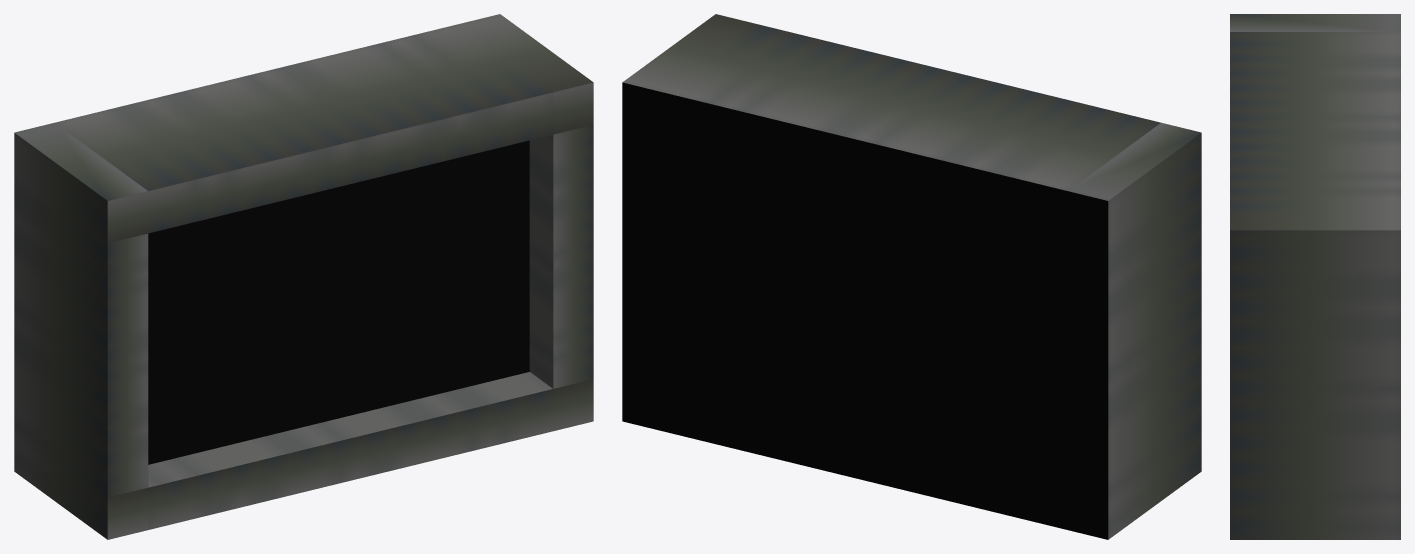
The model's file is Poly_Small_Window_00.obj.
3 renders of one model, left to right at view 1: azimuth 30°, elevation 25°; view 2: azimuth 150°, elevation 25°; view 3: azimuth 270°, elevation 25°, orthographic. The views are drawn at different scales.
Visible parts, largest first — view 1: Cube_Cube.001; view 2: Cube_Cube.001; view 3: Cube_Cube.001.
Boxes of the visible parts, x1,y1,x2,y2 form: Cube_Cube.001: [14, 14, 593, 539]; Cube_Cube.001: [622, 14, 1201, 539]; Cube_Cube.001: [1230, 14, 1400, 539].
Size of the model in its own units: 0.9 by 0.6 by 0.3.
Materials: 1 (1 with a texture image).
